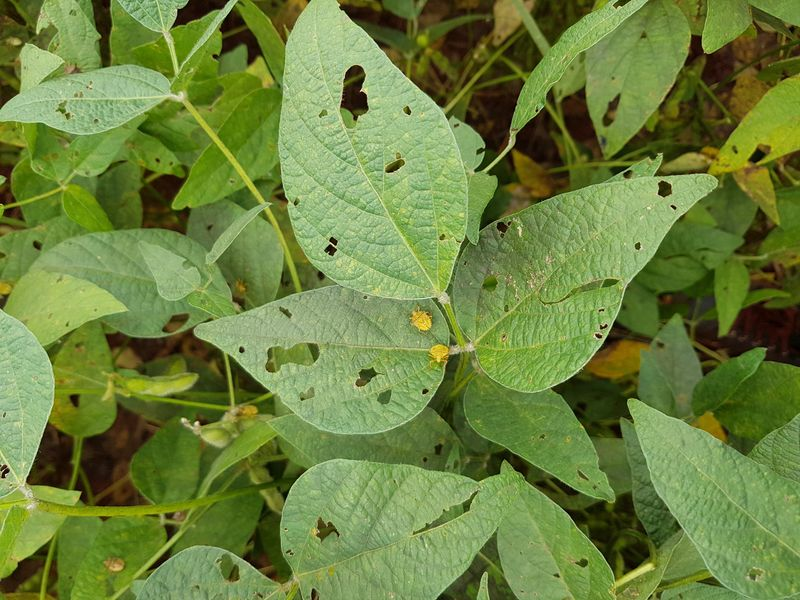Euschistus_heros_adulto: (61, 58, 85, 79)
Euschistus_heros_ninfa: (403, 301, 438, 336), (423, 341, 454, 370), (98, 553, 128, 576)
Nezara_viridula_ninfa: (237, 401, 260, 420)
